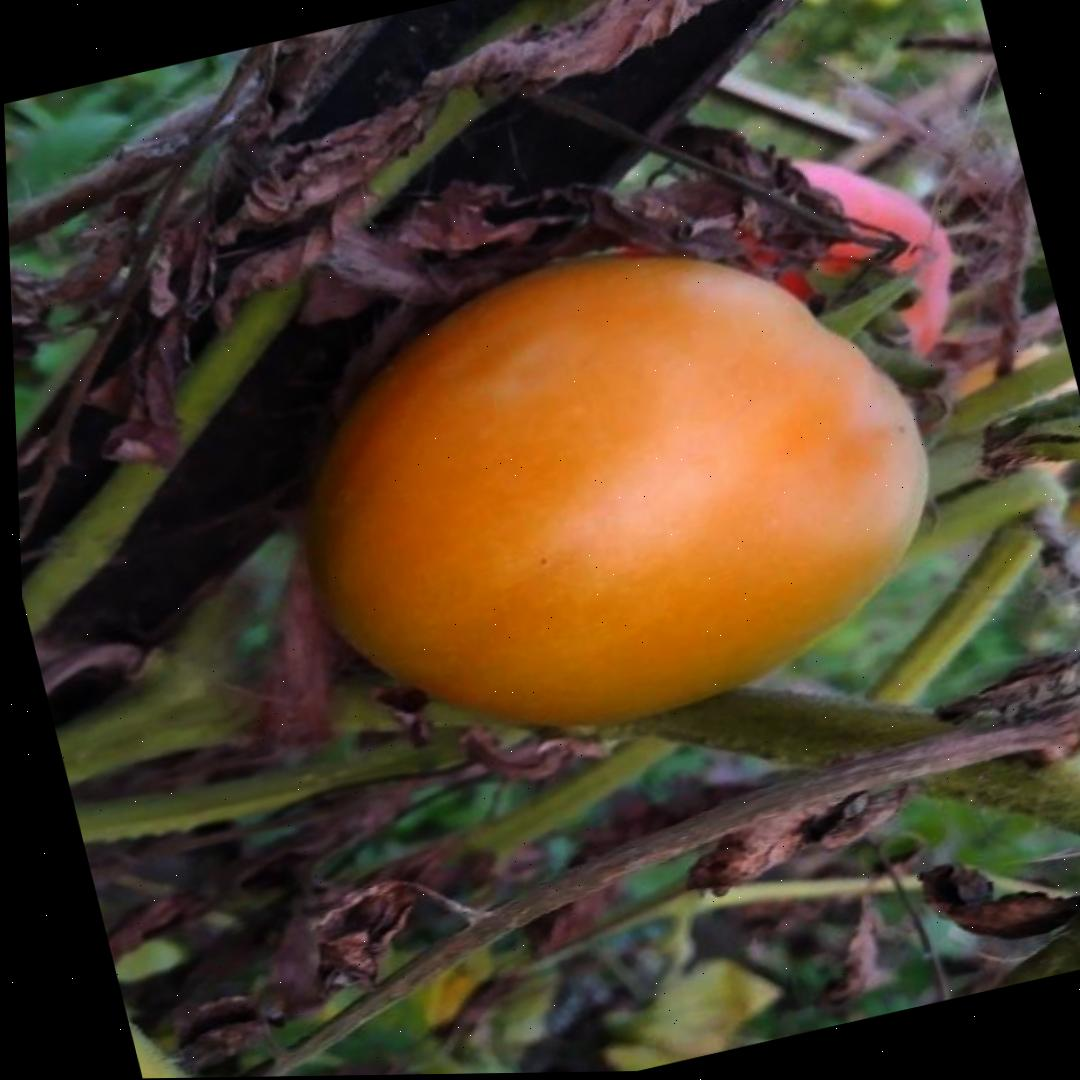setengah_matang: (242, 188, 987, 790)
